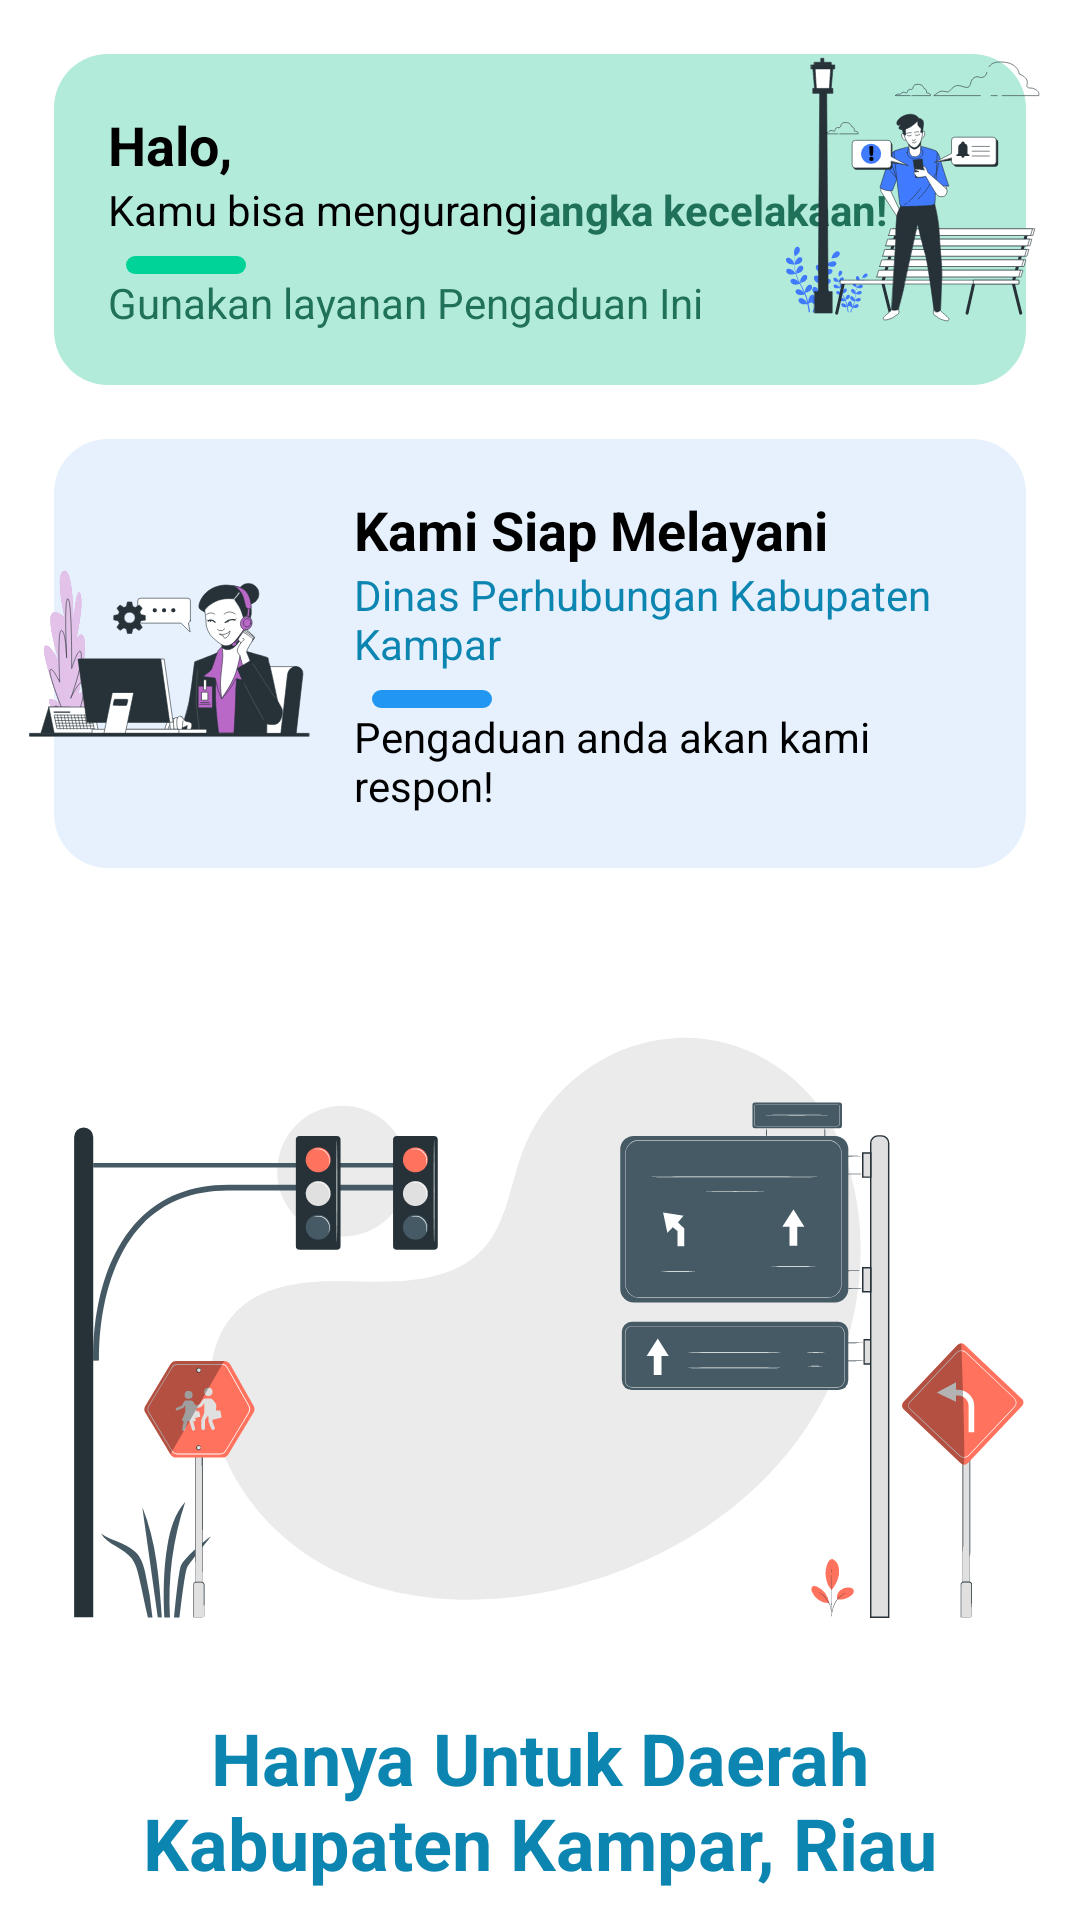

Named icons in this screenshot (1080x1920) and their centers, (x,y):
push notifications bro: (912,193)
